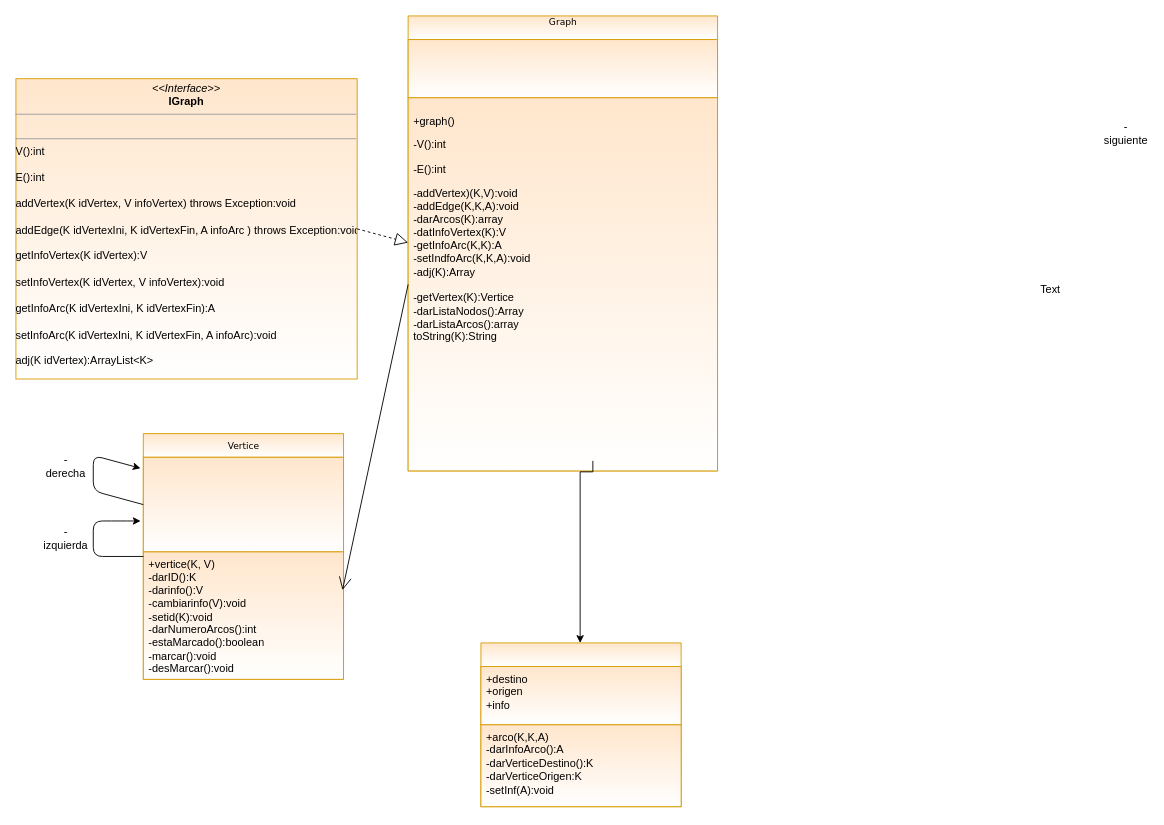
Some shapes in this 1164 by 825 pixel diagram are drawn without their labels. Here are the shapes that lost their labels. From the top down, the box of each, then its label:
(407, 39, 718, 98): -V:int -E:int -nodos:array -arcos:array
(142, 456, 344, 552): - MARCADO= false +ID +info +numero de arcos
(480, 642, 681, 807): Arcos
